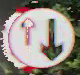Two way: (4, 4, 76, 65)
